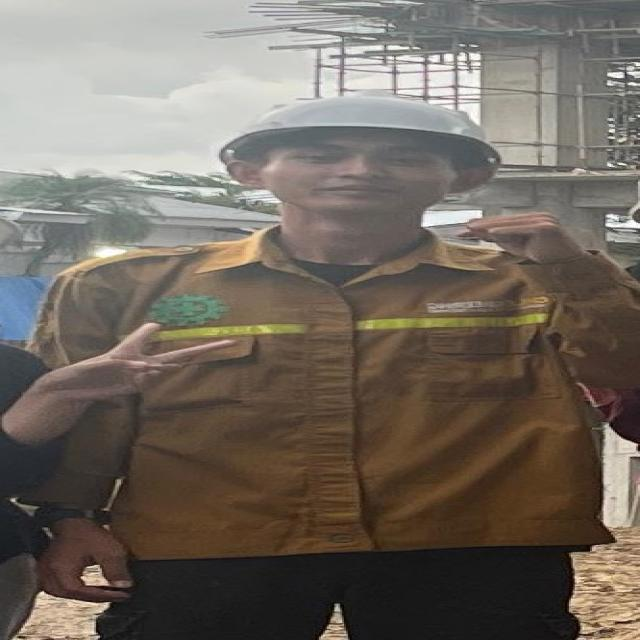safetyhelmet: (210, 99, 501, 229)
